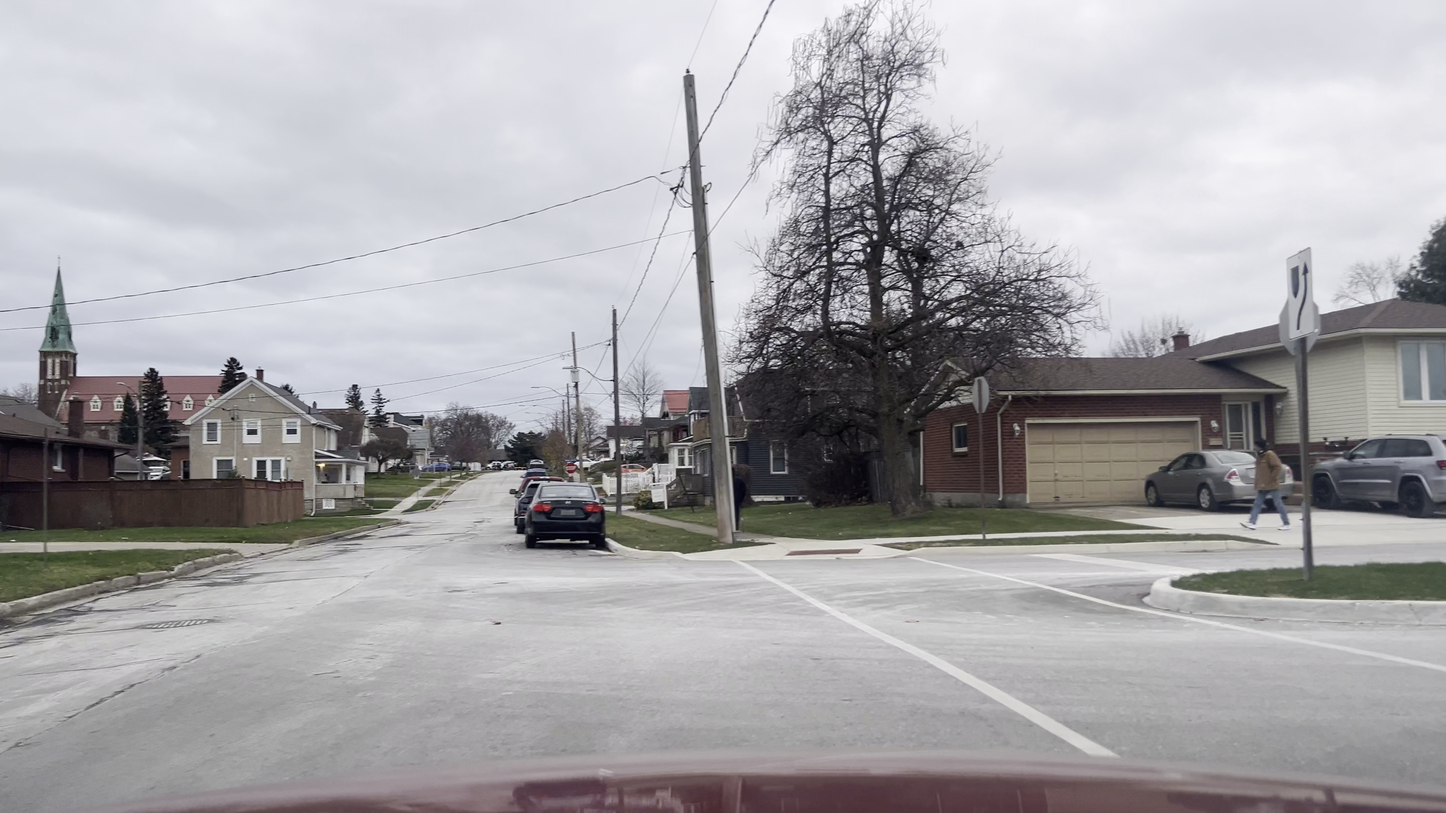cracks: (3, 597, 132, 654), (159, 563, 291, 601)
